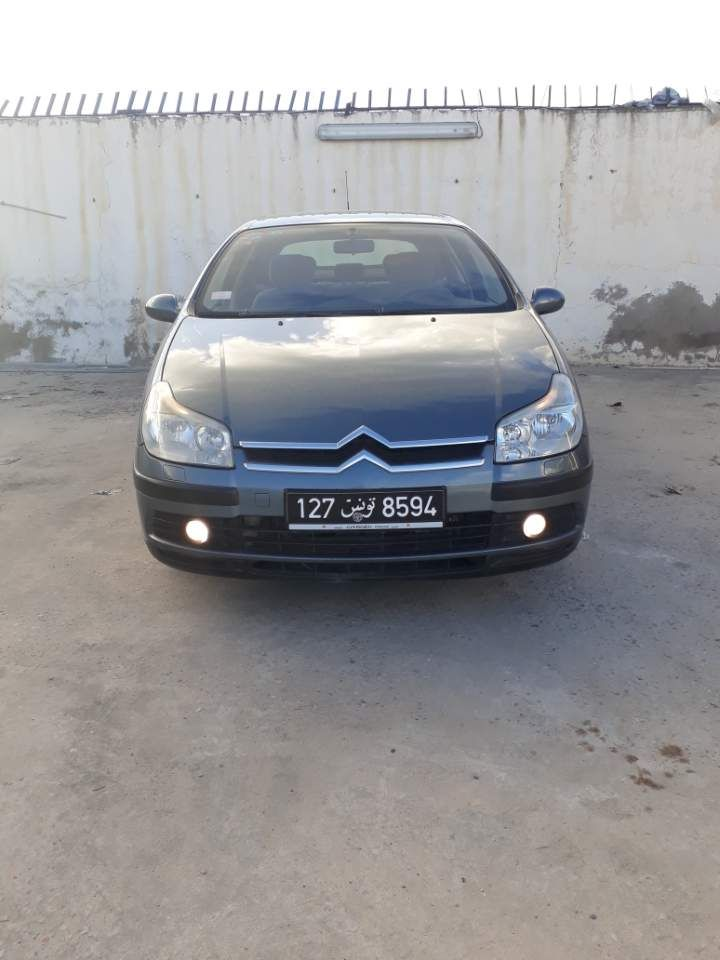LP: (284, 488, 446, 532)
